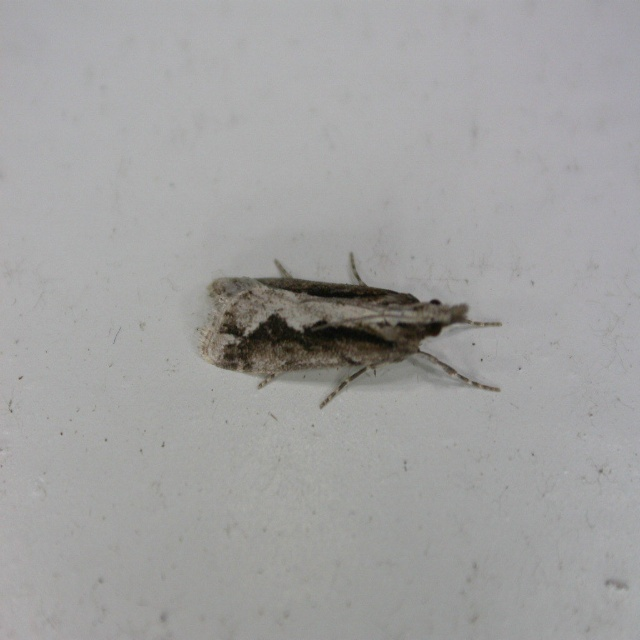Moths and butterflies: (193, 246, 506, 408)
